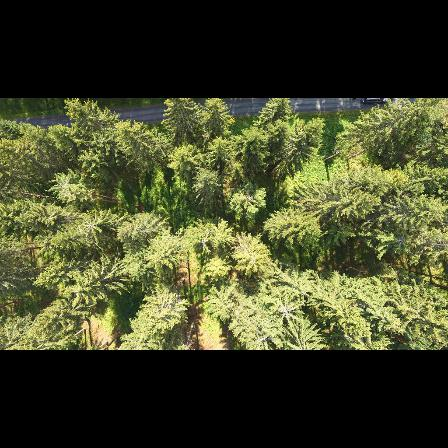Sick: (50, 170, 83, 200), (189, 227, 220, 255), (273, 298, 303, 325), (75, 214, 104, 239)
